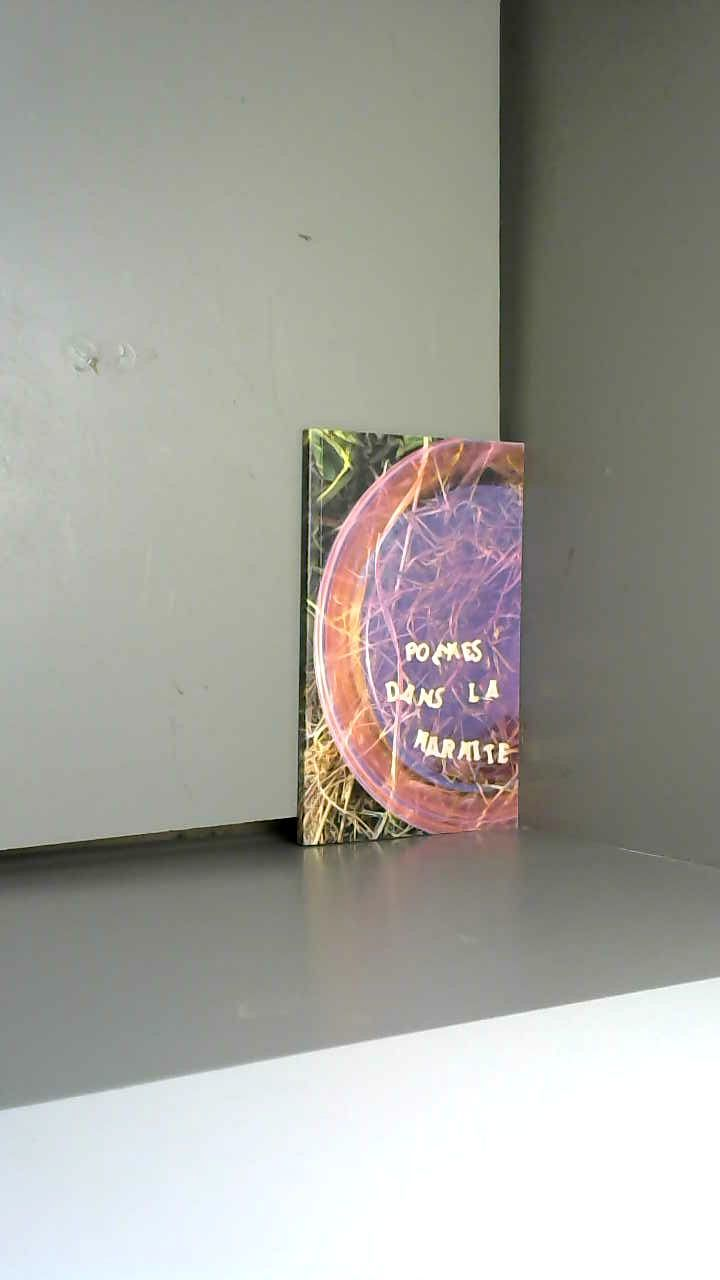book: (255, 385, 574, 897)
